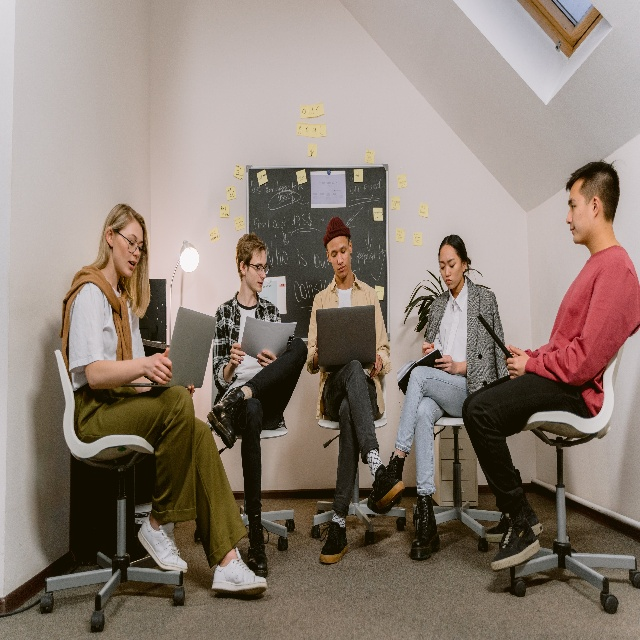Gafas: (113, 228, 147, 260), (247, 261, 271, 274), (592, 196, 599, 217), (463, 261, 466, 272)
Sin_guantes: (143, 346, 173, 386), (506, 344, 528, 380), (434, 351, 456, 372), (257, 346, 276, 370), (230, 340, 246, 368), (368, 352, 383, 380), (503, 344, 518, 367), (422, 340, 435, 357), (188, 384, 194, 397)
